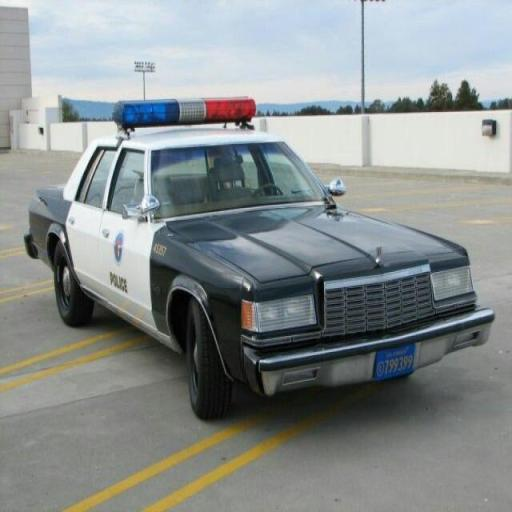Ambulance: (26, 89, 493, 420)
